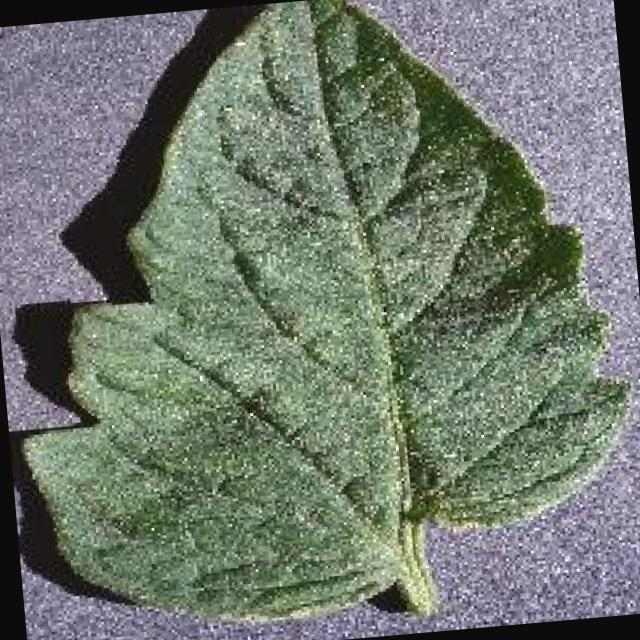healthy: (22, 0, 638, 621)
